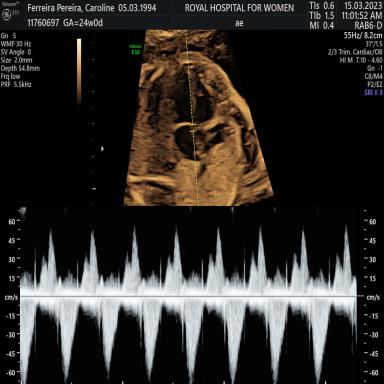Ultrasound-Waves: (24, 209, 355, 384)
